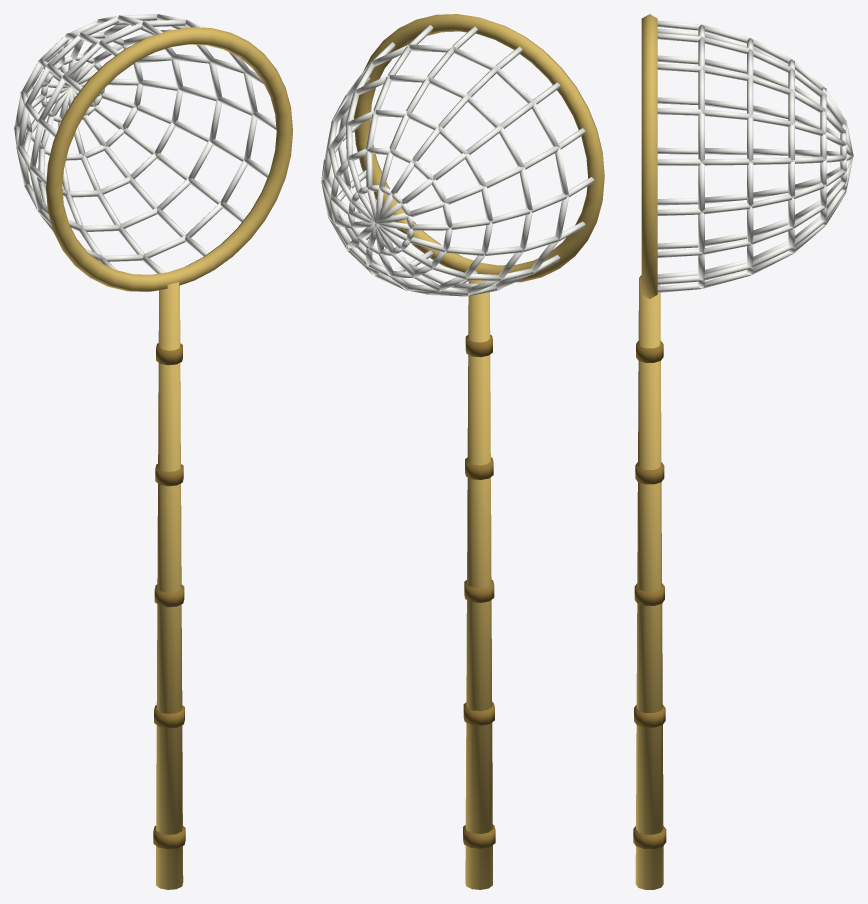
The model's file is jellyfish_net.obj.
3 views of the same model, side by side, from view 1: azimuth 30°, elevation 25°; view 2: azimuth 150°, elevation 25°; view 3: azimuth 270°, elevation 25° (orthographic).
Size of the model in its own units: 0.428 by 1.41 by 0.3295.
